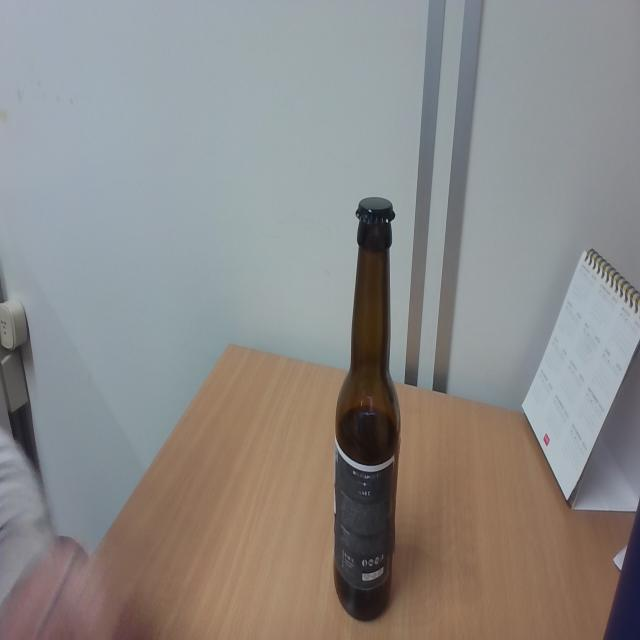Bottle: (331, 194, 401, 622)
Cap: (352, 195, 397, 228)
Label: (331, 452, 394, 592)
